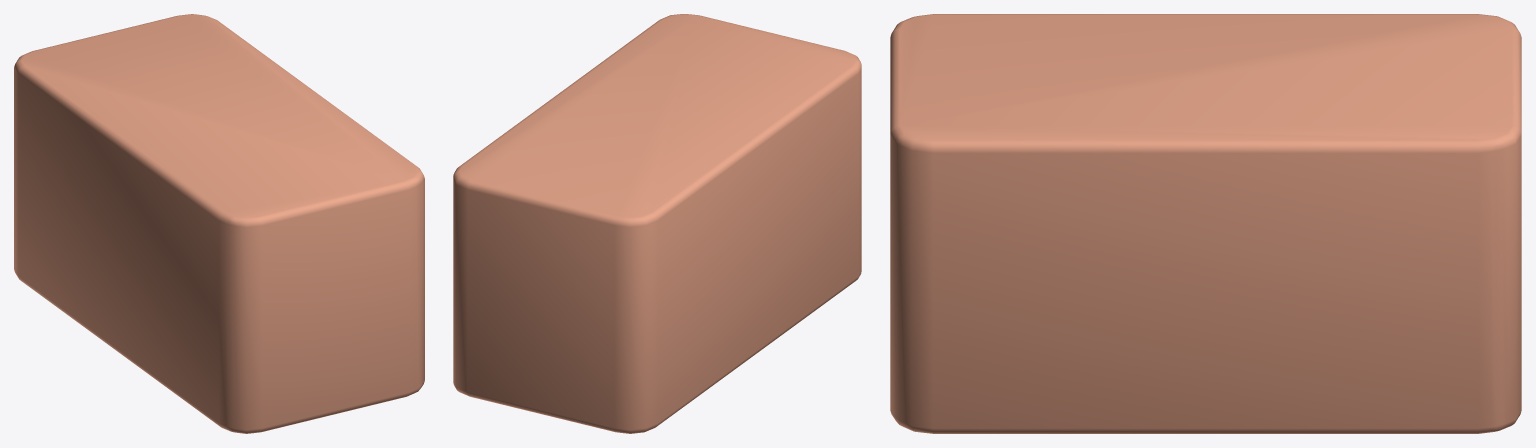
File: island_lv7_2.fbx
3 renders of one model, left to right at view 1: azimuth 30°, elevation 25°; view 2: azimuth 150°, elevation 25°; view 3: azimuth 270°, elevation 25°, orthographic. The views are drawn at different scales.
Visible parts, largest first — view 1: island_lv7_2; view 2: island_lv7_2; view 3: island_lv7_2.
Part boxes in pixels (x1,y1,x2,y2): island_lv7_2: [14, 14, 424, 433]; island_lv7_2: [453, 14, 861, 433]; island_lv7_2: [890, 14, 1521, 433].
Size of the model in its own units: 490 by 500 by 978.
